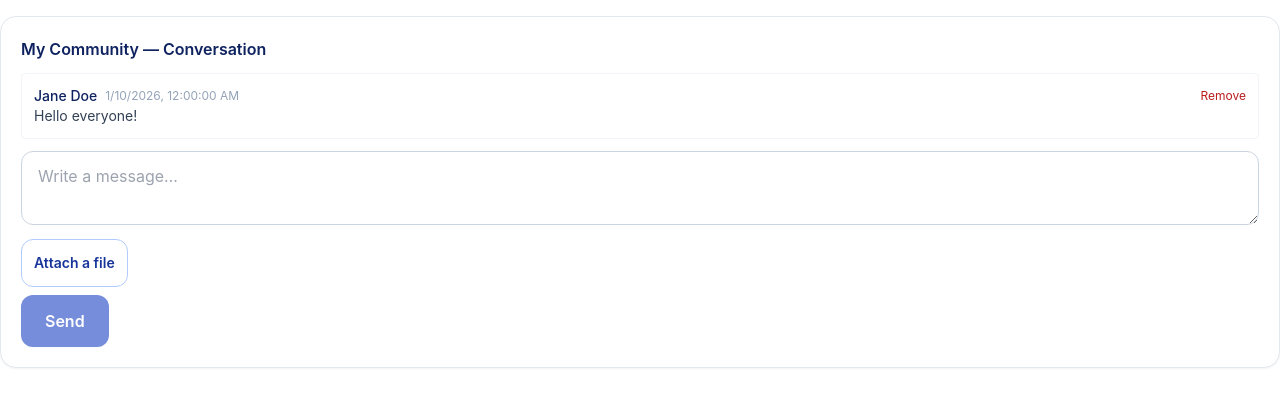
Test: CommunityConversation › keeps the message visible and shows an error when deletion fails
Click the button "Remove" at {"x": 1223, "y": 96}, box [1200,88,1246,104]
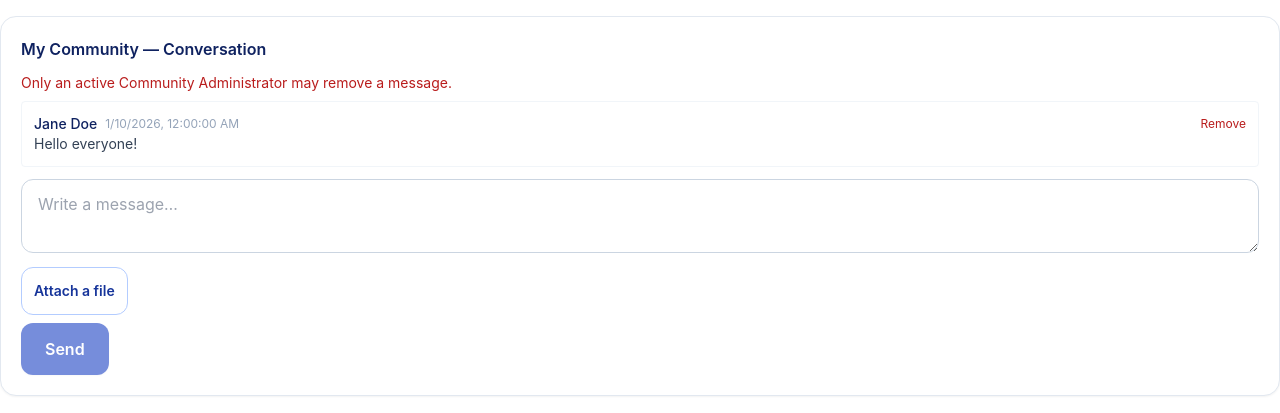
Check: the text "Hello everyone!" is shown, box [34,135,137,152]
Check: the text "Only an active Community Administrator may remove a message." is shown, box [21,74,452,91]
